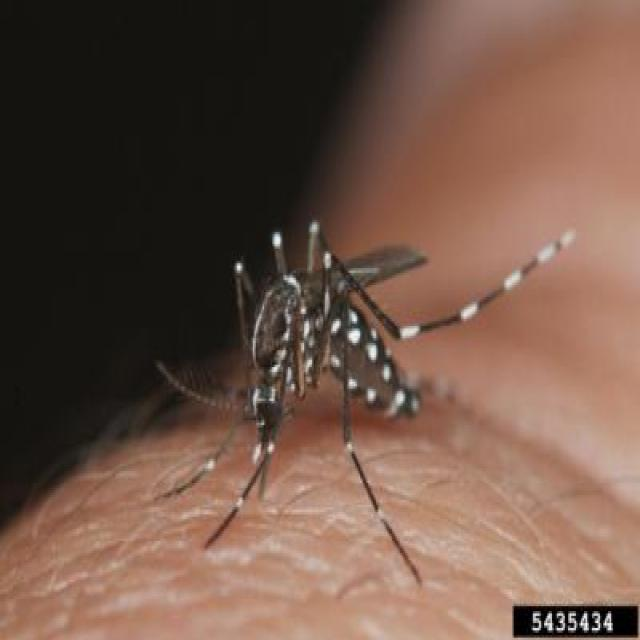antennae: (152, 355, 262, 427)
body: (251, 267, 418, 441)
insect: (142, 213, 582, 579)
legs: (334, 224, 591, 577), (155, 419, 289, 542), (223, 220, 323, 302)
wings: (291, 239, 428, 297)
